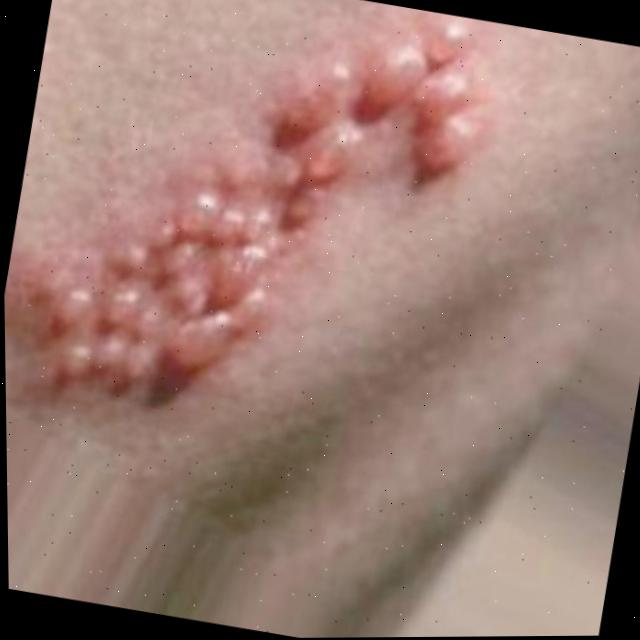Shingles: (7, 0, 500, 449)
